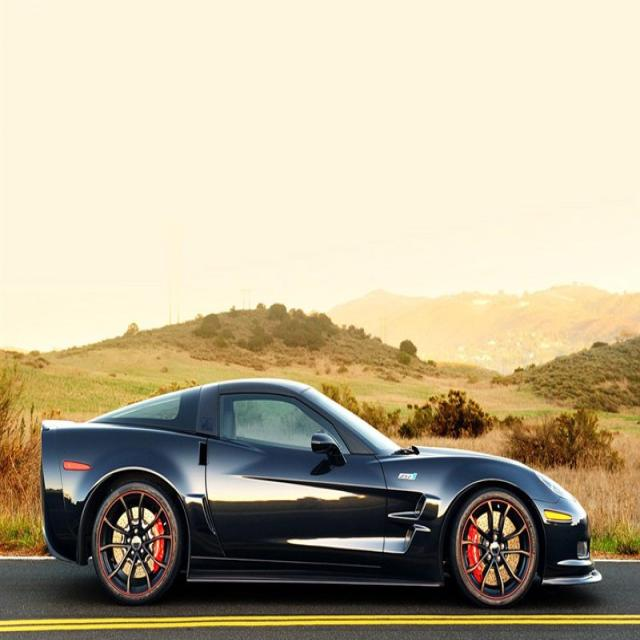back_glass: (93, 382, 190, 426)
front_right_side_door: (202, 383, 390, 572)
front_right_side_light: (533, 468, 575, 504)
front_right_side_mirror: (311, 431, 346, 467)
wheel: (90, 472, 184, 603), (449, 483, 540, 610)
